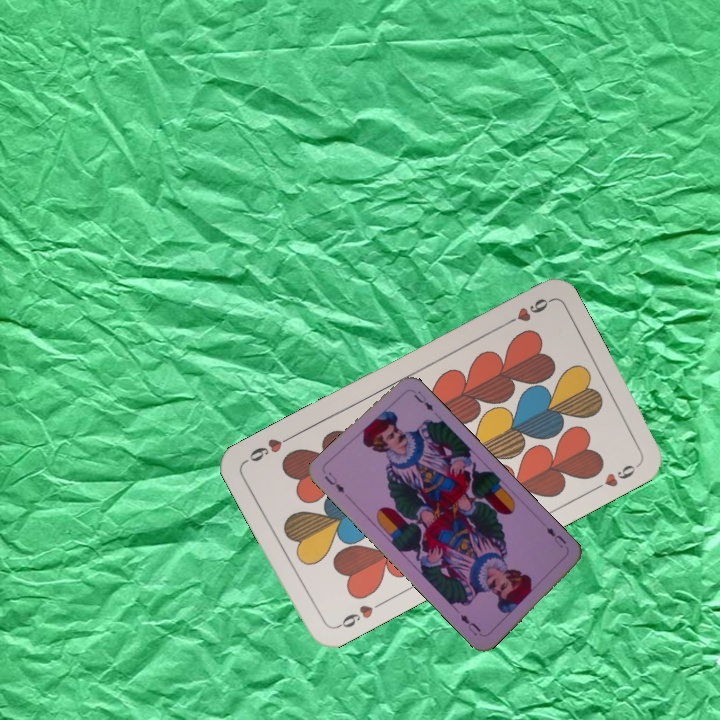EU: (542, 523, 569, 551), (320, 468, 347, 496)
H9: (498, 294, 553, 330), (330, 597, 386, 632)
